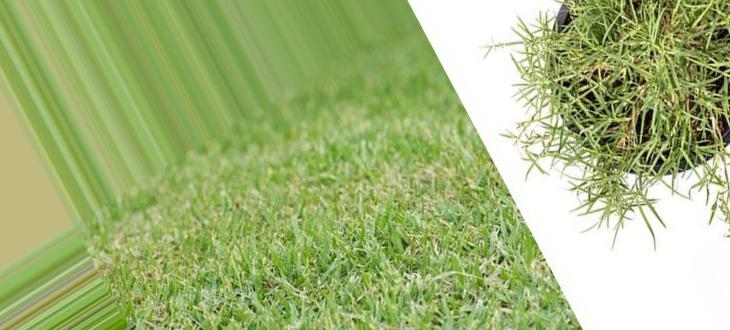patch: (185, 234, 307, 284), (363, 155, 459, 205), (182, 159, 255, 191), (321, 185, 355, 234), (129, 213, 158, 241)
